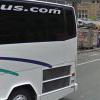Bus: (1, 2, 82, 99)
